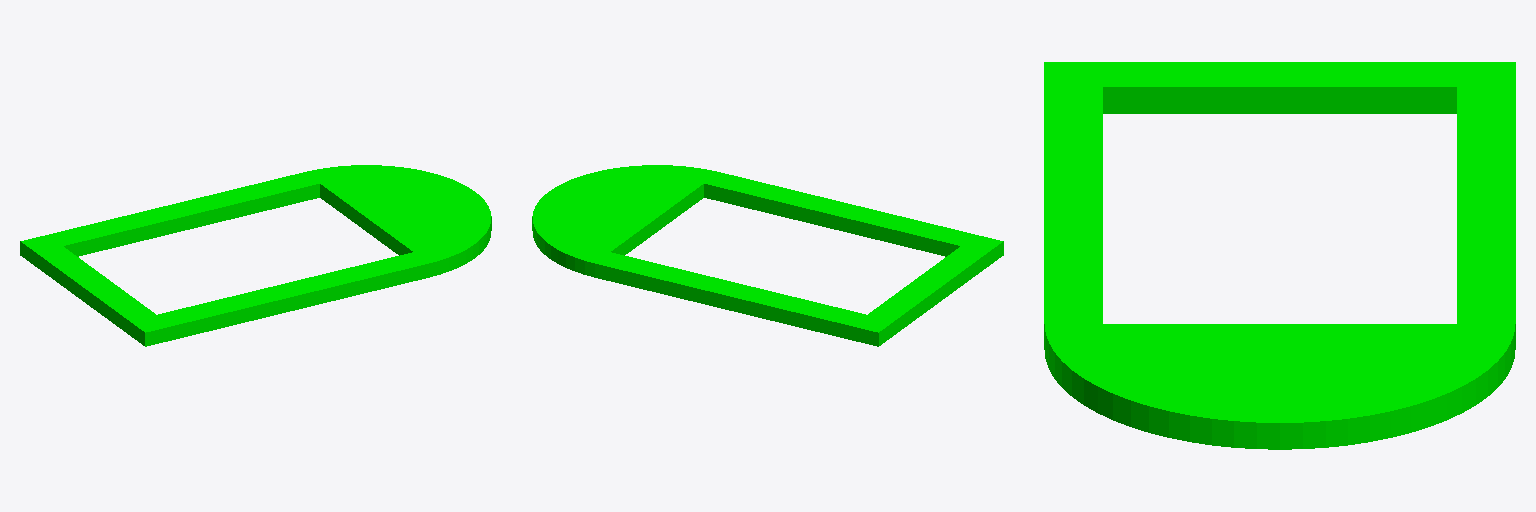
robot.urdf — target:
<?xml version="1.0" encoding="UTF-8"?>
<robot name="target">
  
	<link name="base_link">
		<visual>
      		<origin rpy="0 0 0" xyz="0 0 0"/>
            <geometry>
				<mesh filename="meshes/target_mesh.stl" get_scaled="1 1 1"/>
            </geometry>
            <material name="green">
   5            <color rgba="0 1 0 0.7"/>
   6        </material>
    	</visual>
	</link>

</robot>

--- Render facts (derived) ---
Views: 3 orthographic renders of the robot side by side, from view 1: azimuth 30°, elevation 25°; view 2: azimuth 150°, elevation 25°; view 3: azimuth 270°, elevation 25°.
Robot: target — 1 links, 0 joints (none); root link base_link; default pose: every joint at zero.
Links seen in each view (by area): view 1: base_link; view 2: base_link; view 3: base_link.
Boxes of the visible links, x1,y1,x2,y2 form: base_link: (20, 165, 491, 346); base_link: (532, 165, 1003, 346); base_link: (1044, 62, 1515, 449).
Bounding box of the posed robot: 29 × 16 × 1 m (x, y, z).
Meshes: 1 distinct files referenced, 1 mesh visuals loaded (1 binary STL).